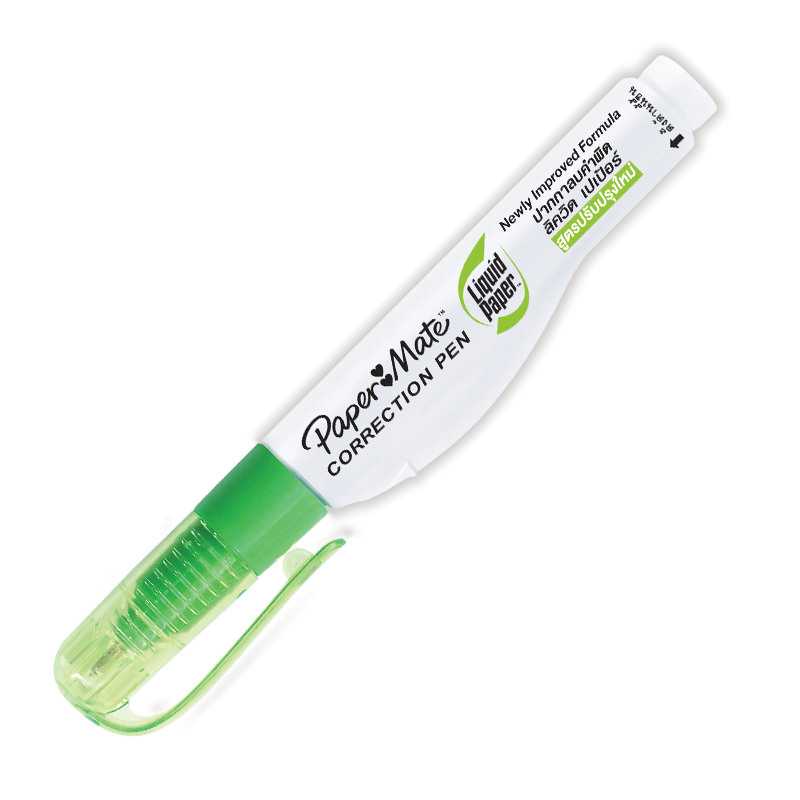Correction_fluid: (47, 42, 725, 755)
